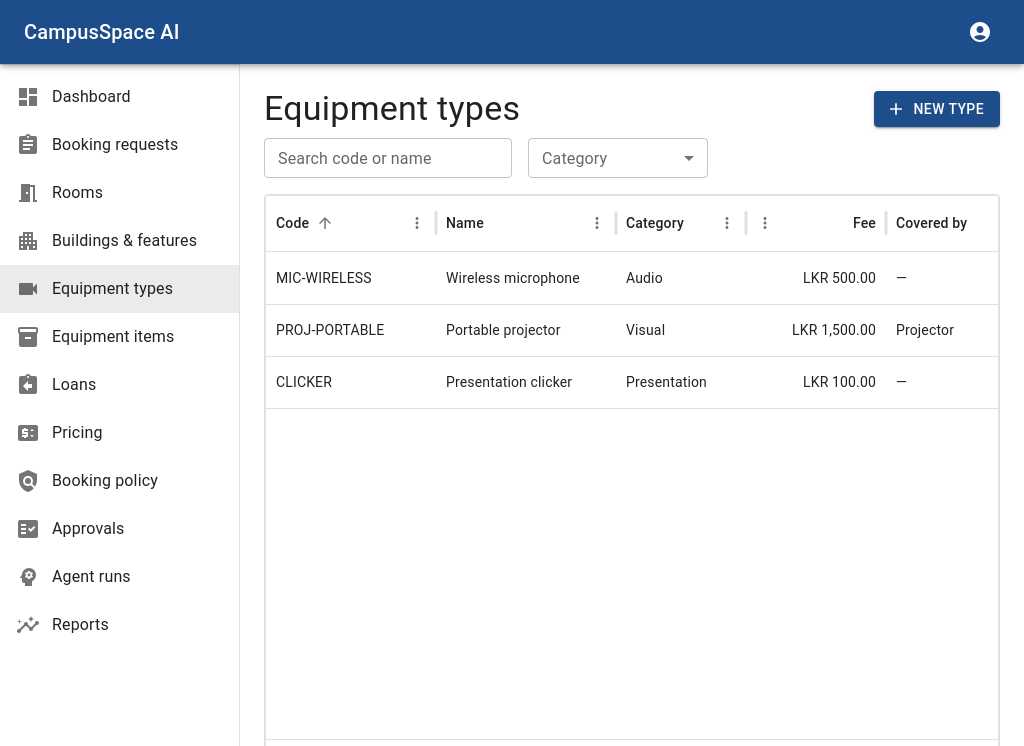
EquipmentTypeFormDialog › checks the code pattern before sending
Click the button "New type".
click(937, 109)  # box [874,91,1000,127]
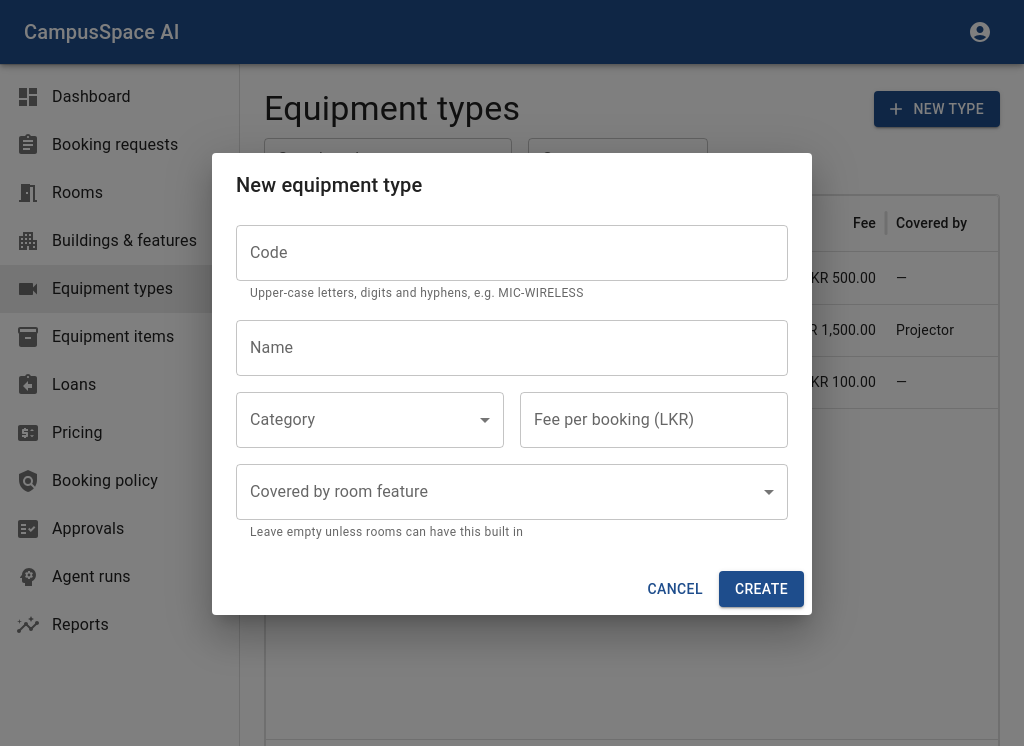
Type "mic wireless" into the field labelled "Code".
click(512, 253); type("mic wireless")  # box [236,225,788,281]
Type "HDMI cable" into the field labelled "Name".
click(512, 348); type("HDMI cable")  # box [236,320,788,376]
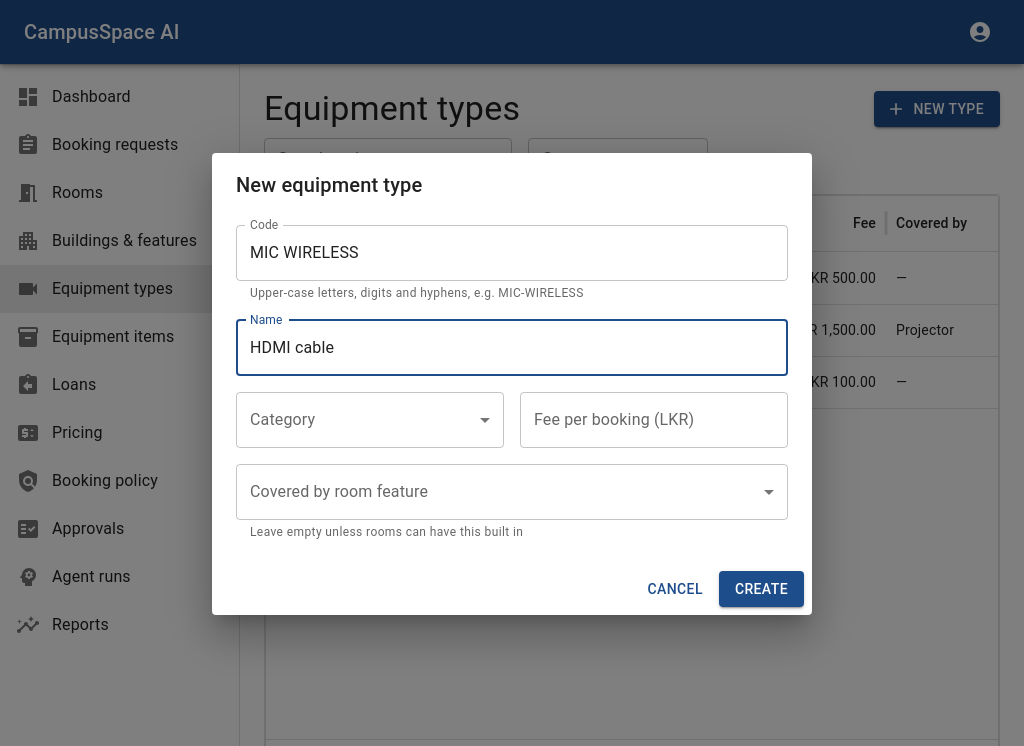
Click the dropdown named "Category" in the row of "Fee per booking (LKR)".
click(370, 420)  # box [236,392,504,448]
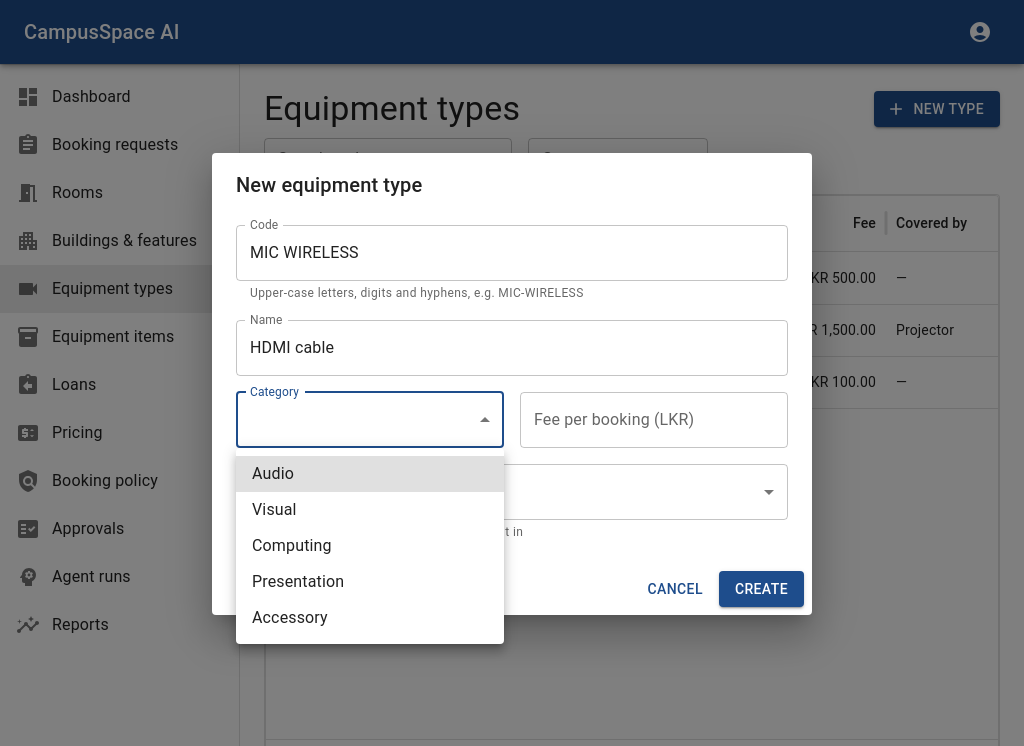
Click the option "Accessory".
click(290, 618)  # box [252,608,328,627]
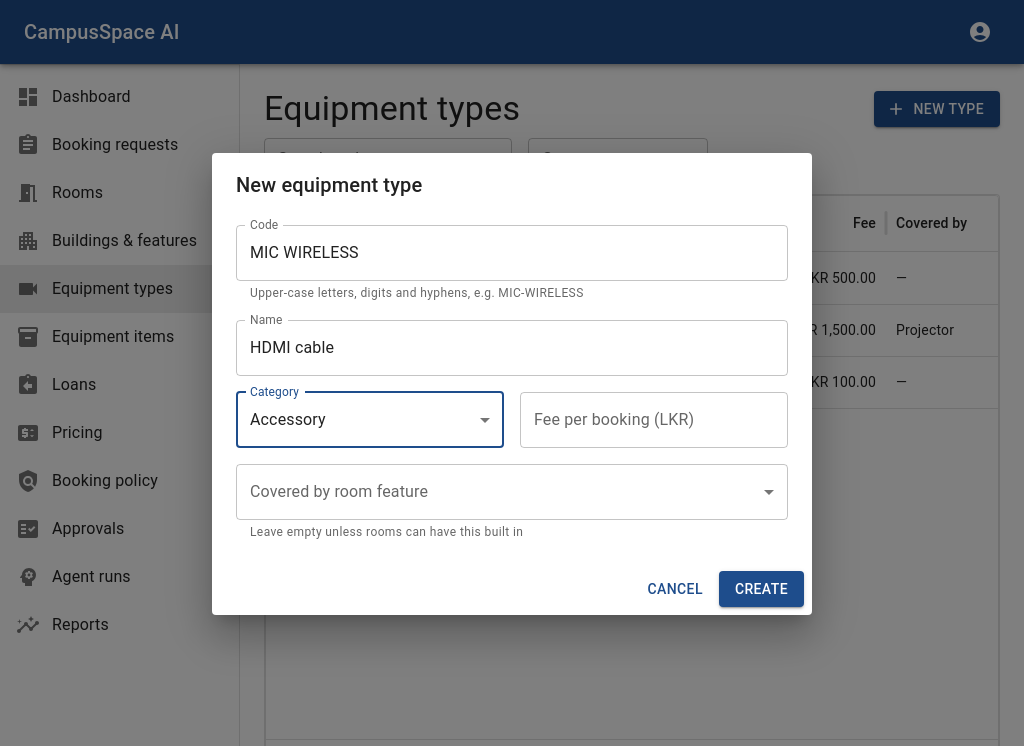
Type "50" into the field labelled "Fee per booking (LKR)".
click(654, 420); type("50")  # box [520,392,788,448]
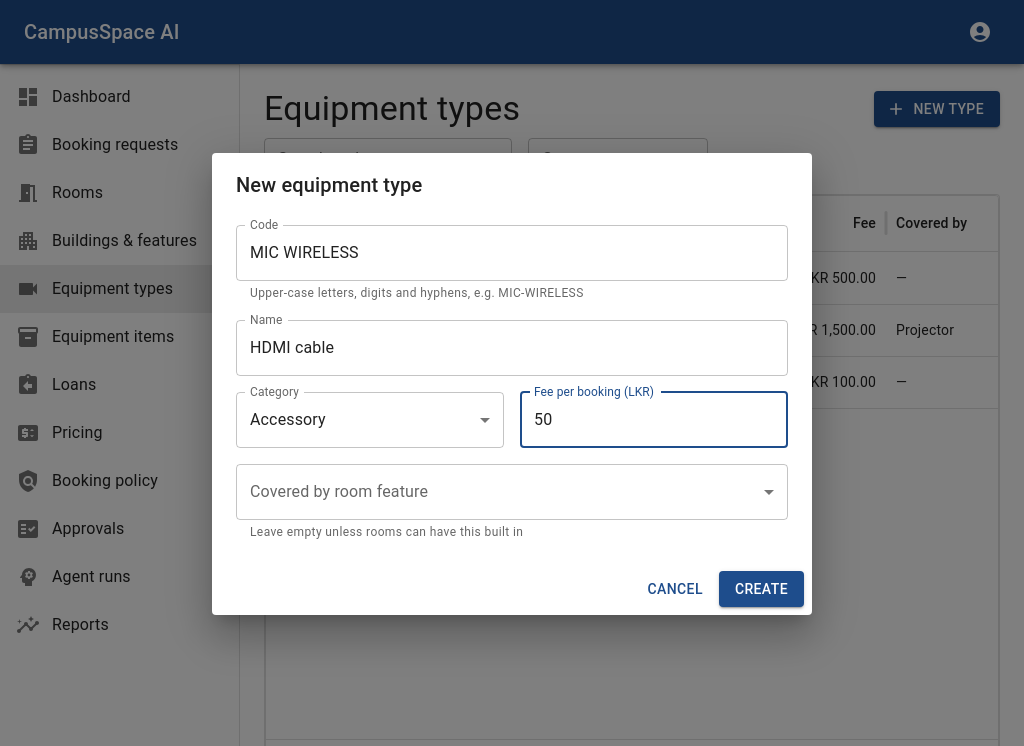
Click the button "Create".
click(761, 589)  # box [719,571,804,607]
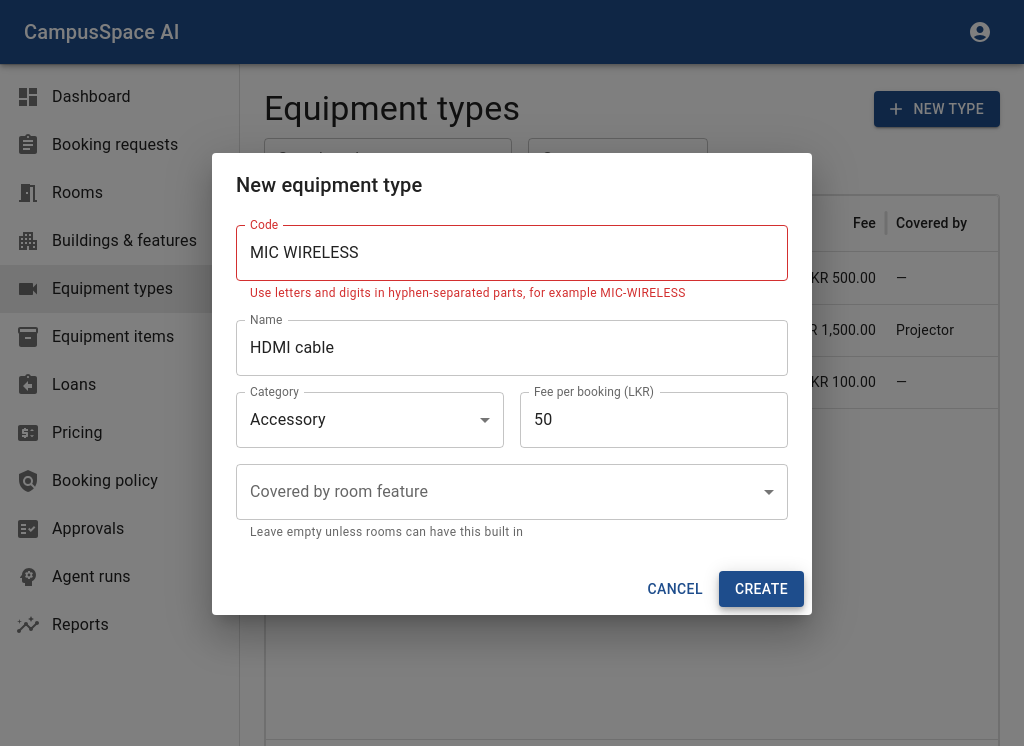
Expected: the text "Use letters and digits in hyphen-separated parts, for example MIC-WIRELESS" is shown, [250,286,686,300]
